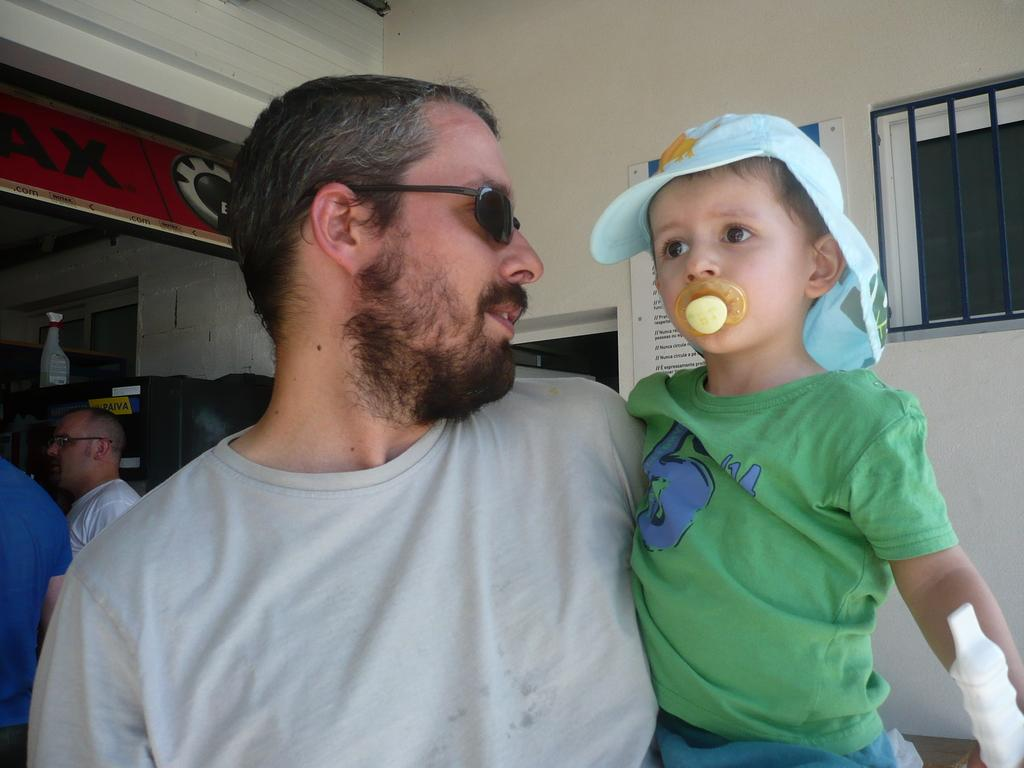Hat: (590, 110, 873, 372)
